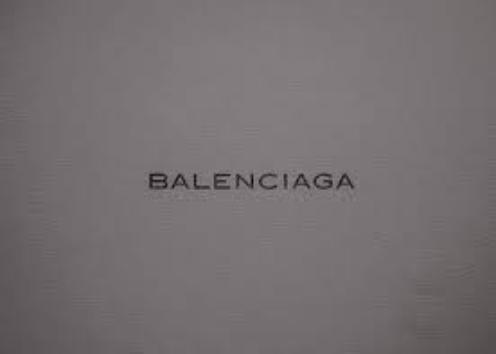BALENCIAGA: (145, 170, 357, 193)
